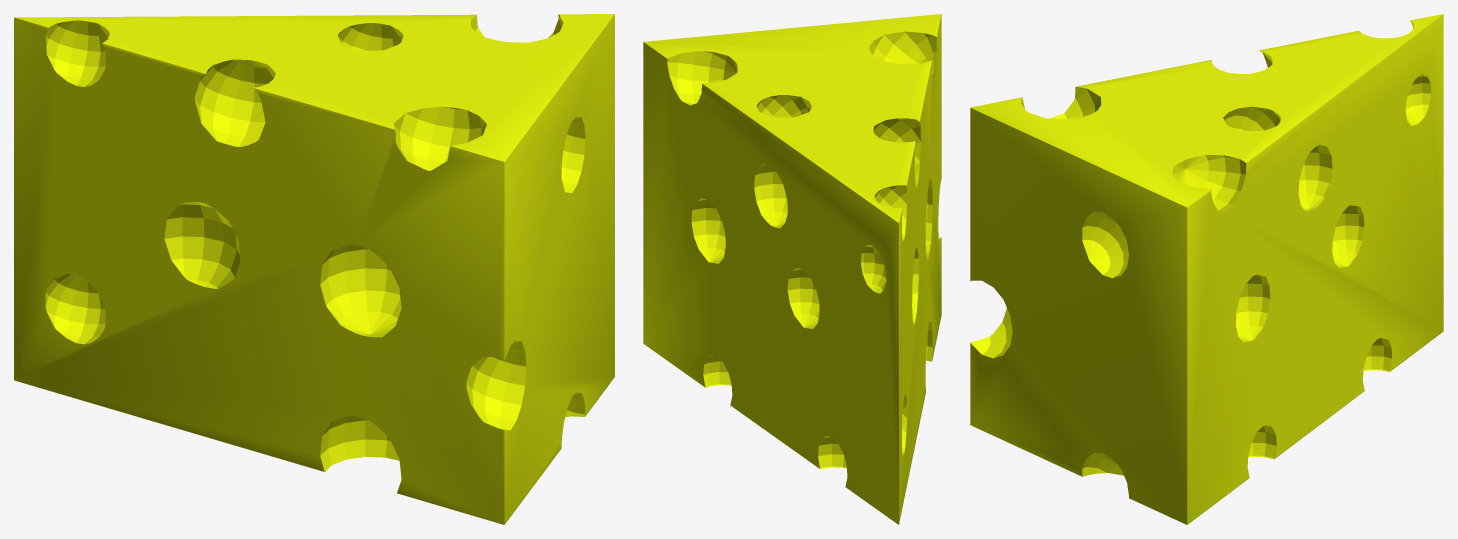
The model's file is Cheese.gltf.
The picture shows the model from 3 angles, left to right: view 1: azimuth 30°, elevation 25°; view 2: azimuth 150°, elevation 25°; view 3: azimuth 270°, elevation 25°; orthographic projection. The views are drawn at different scales.
Parts seen in each view (by area): view 1: node-0; view 2: node-0; view 3: node-0.
Boxes of the visible parts, bbox=[...] form: node-0: bbox=[14, 14, 614, 524]; node-0: bbox=[643, 14, 941, 524]; node-0: bbox=[970, 14, 1443, 524].
Bounding box in the file's own units: 647 × 495 × 668.
